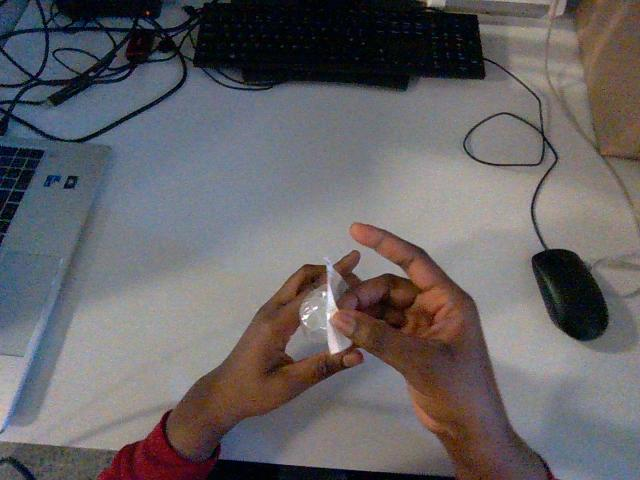syringe: (299, 259, 351, 352)
